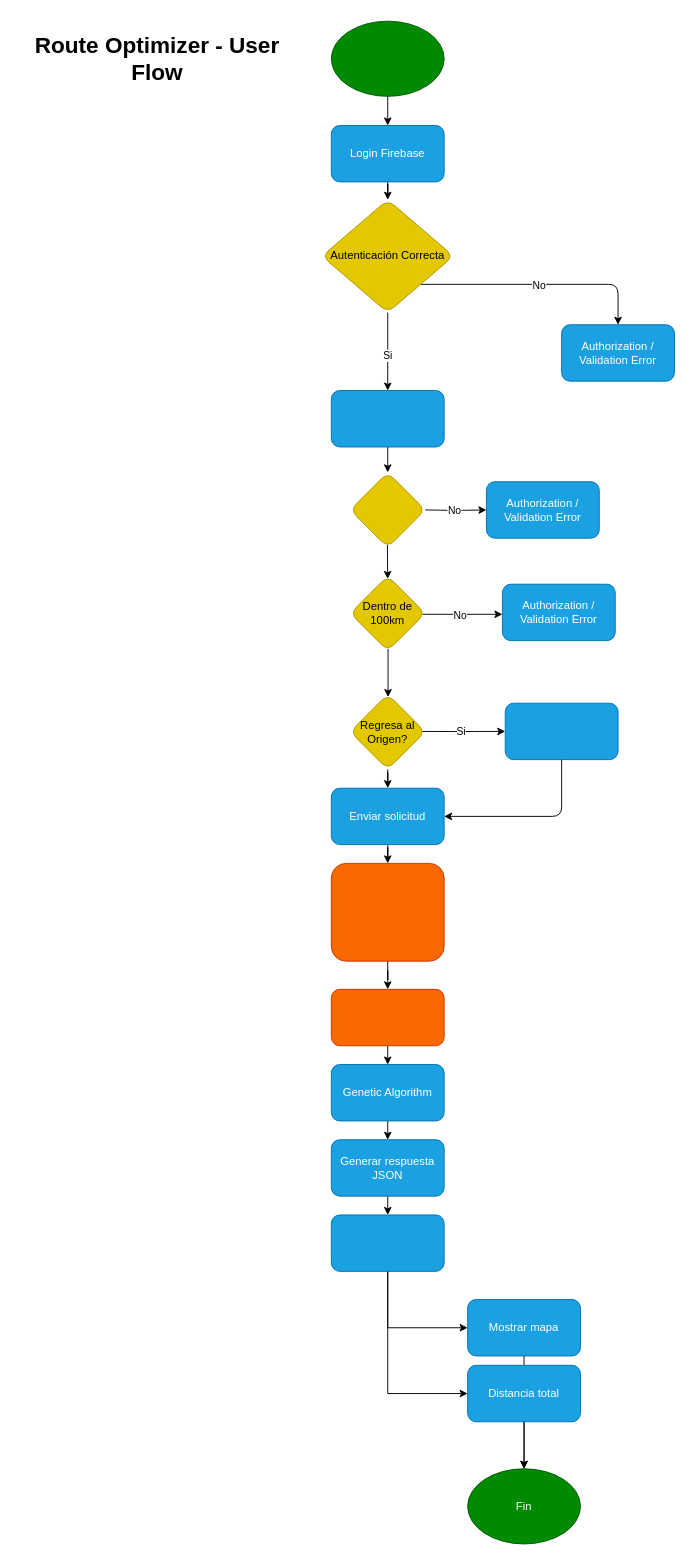
This 691x1560 diagram has some shape labels left out. Here are the shapes that lost their labels. From the top down, the centre of each, then its label:
(x=387, y=58): Inicio
(x=387, y=418): Formulario destinos
(x=387, y=509): 2-15 destinos?
(x=561, y=731): Se agrega dirección 1 al final de la lista
(x=387, y=911): Cloud Function • IP Validation • Token Validation • Request Validation
(x=387, y=1017): Distance Matrix API
(x=387, y=1242): Directions API
